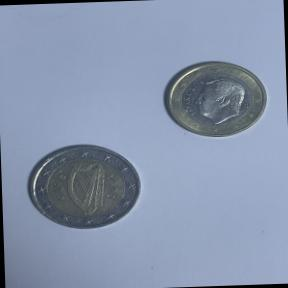1 Euro-B: (157, 55, 271, 143)
2 Euro-B: (20, 138, 145, 233)
